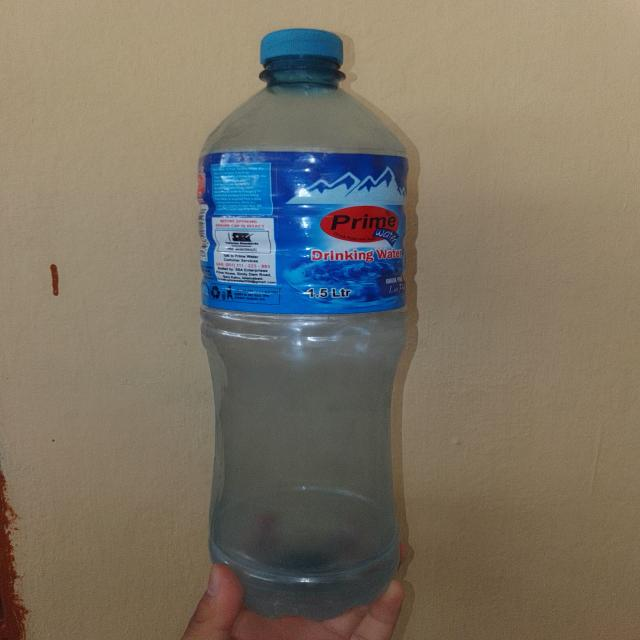bottle: (178, 20, 452, 611)
cap: (242, 26, 361, 80)
label: (197, 148, 427, 321)
